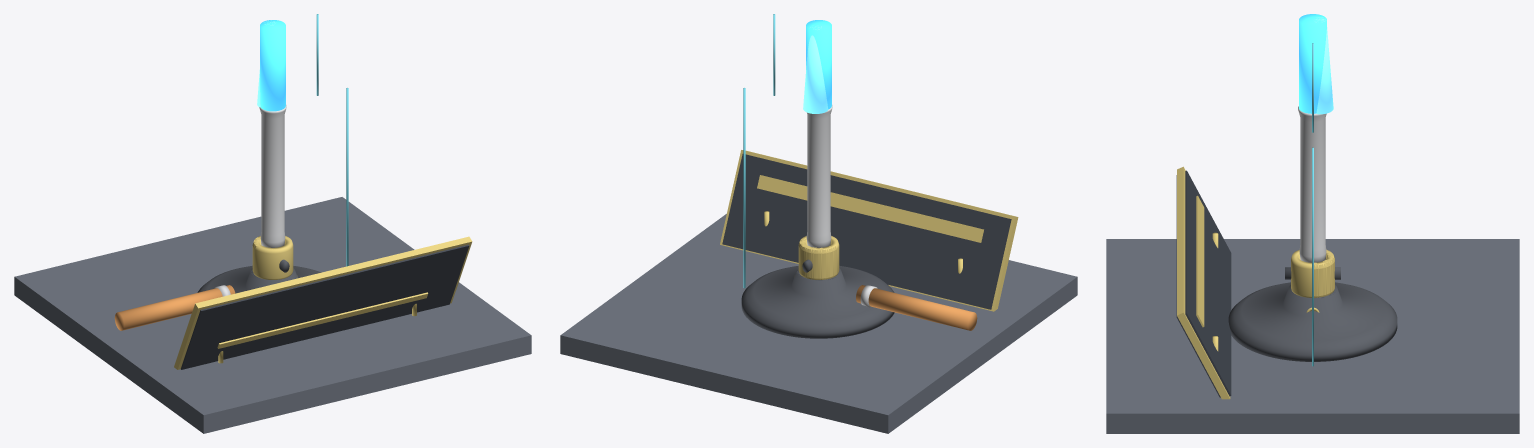
The model's file is bunsen-burner.glb.
3 views of the same model, side by side, from view 1: azimuth 30°, elevation 25°; view 2: azimuth 150°, elevation 25°; view 3: azimuth 270°, elevation 25° (orthographic). The views are drawn at different scales.
Visible parts, largest first — view 1: bunsen-burner_Plinth, Sec_Plaque_Board, bunsen-burner_Chimney, Sec_Plaque_Frame, bunsen-burner_Flame_Outer, bunsen-burner_Hose, bunsen-burner_Base, bunsen-burner_Air_Collar, Sec_Plaque_Bar_2, Sec_Caliper_H; view 2: bunsen-burner_Plinth, Sec_Plaque_Board, bunsen-burner_Base, bunsen-burner_Chimney, Sec_Plaque_Title, Sec_Plaque_Frame, bunsen-burner_Hose, Sec_Zone_1400C, bunsen-burner_Flame_Outer, Sec_Air_Collar_Cutaway, bunsen-burner_Air_Collar, Sec_Caliper_H; view 3: bunsen-burner_Plinth, bunsen-burner_Base, Sec_Plaque_Board, bunsen-burner_Chimney, bunsen-burner_Flame_Outer, Sec_Plaque_Frame, bunsen-burner_Air_Collar, Sec_Plaque_Title, Sec_Zone_1400C, Sec_Air_Collar_Cutaway, Sec_Caliper_H.
Part boxes in pixels (x1,y1,x2,y2): bunsen-burner_Plinth: [14, 197, 531, 433]; Sec_Plaque_Board: [181, 244, 469, 369]; bunsen-burner_Chimney: [259, 105, 286, 247]; Sec_Plaque_Frame: [174, 236, 472, 369]; bunsen-burner_Flame_Outer: [260, 20, 285, 111]; bunsen-burner_Hose: [114, 285, 235, 330]; bunsen-burner_Base: [197, 265, 321, 293]; bunsen-burner_Air_Collar: [253, 236, 293, 279]; Sec_Plaque_Bar_2: [217, 292, 428, 348]; Sec_Caliper_H: [346, 88, 348, 266]; bunsen-burner_Plinth: [560, 214, 1077, 433]; Sec_Plaque_Board: [722, 154, 1011, 309]; bunsen-burner_Base: [741, 265, 894, 338]; bunsen-burner_Chimney: [806, 105, 832, 247]; Sec_Plaque_Title: [757, 175, 983, 242]; Sec_Plaque_Frame: [720, 150, 1018, 311]; bunsen-burner_Hose: [856, 285, 977, 330]; Sec_Zone_1400C: [803, 25, 828, 113]; bunsen-burner_Flame_Outer: [806, 20, 831, 109]; Sec_Air_Collar_Cutaway: [798, 238, 836, 279]; bunsen-burner_Air_Collar: [799, 236, 839, 279]; Sec_Caliper_H: [743, 88, 745, 288]; bunsen-burner_Plinth: [1106, 239, 1519, 433]; bunsen-burner_Base: [1228, 282, 1397, 361]; Sec_Plaque_Board: [1176, 170, 1231, 397]; bunsen-burner_Chimney: [1298, 106, 1326, 262]; bunsen-burner_Flame_Outer: [1299, 14, 1326, 113]; Sec_Plaque_Frame: [1177, 166, 1230, 399]; bunsen-burner_Air_Collar: [1291, 250, 1334, 297]; Sec_Plaque_Title: [1196, 195, 1204, 327]; Sec_Zone_1400C: [1314, 17, 1333, 114]; Sec_Air_Collar_Cutaway: [1314, 249, 1334, 297]; Sec_Caliper_H: [1312, 147, 1313, 366].
Bounding box in the file's own units: 0.22 × 0.192 × 0.22.
